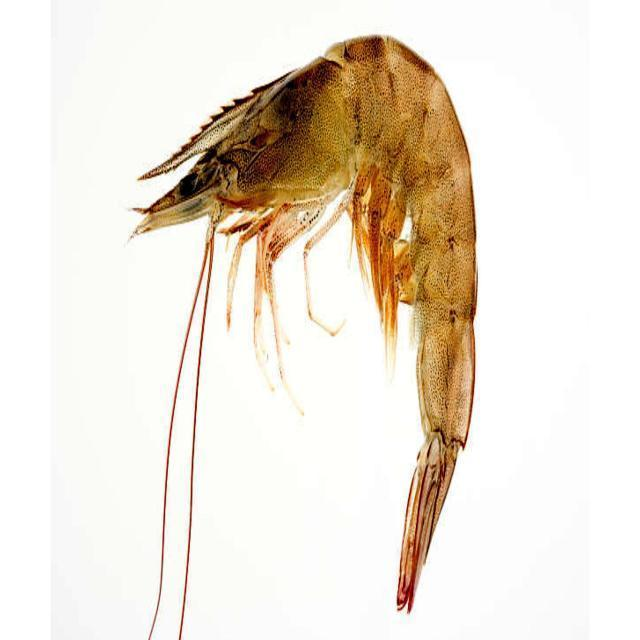shrimp: (136, 37, 476, 609)
